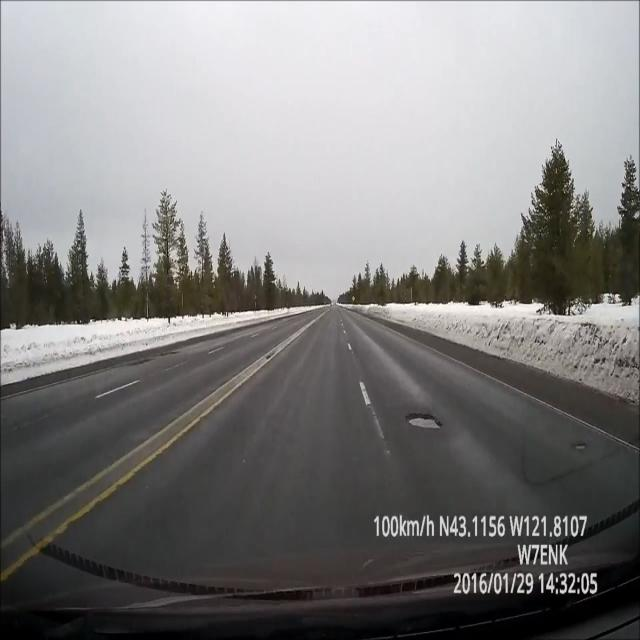Pothole: (400, 394, 443, 436)
